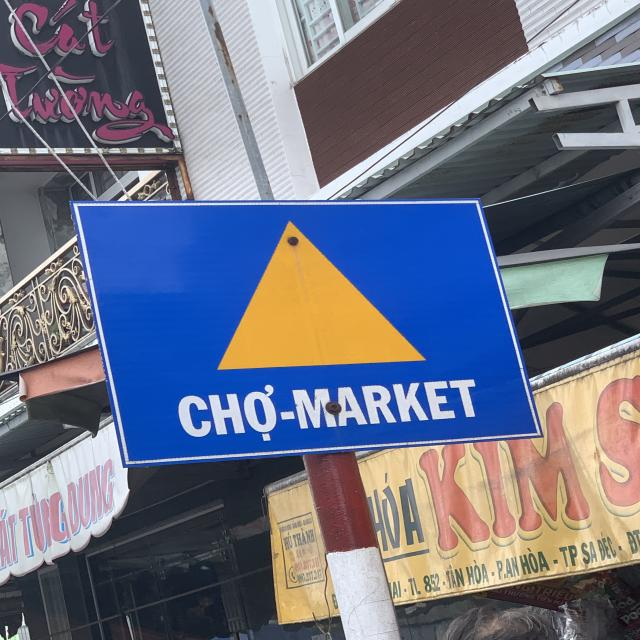Cho_Quay_Xe: (83, 196, 530, 458)
